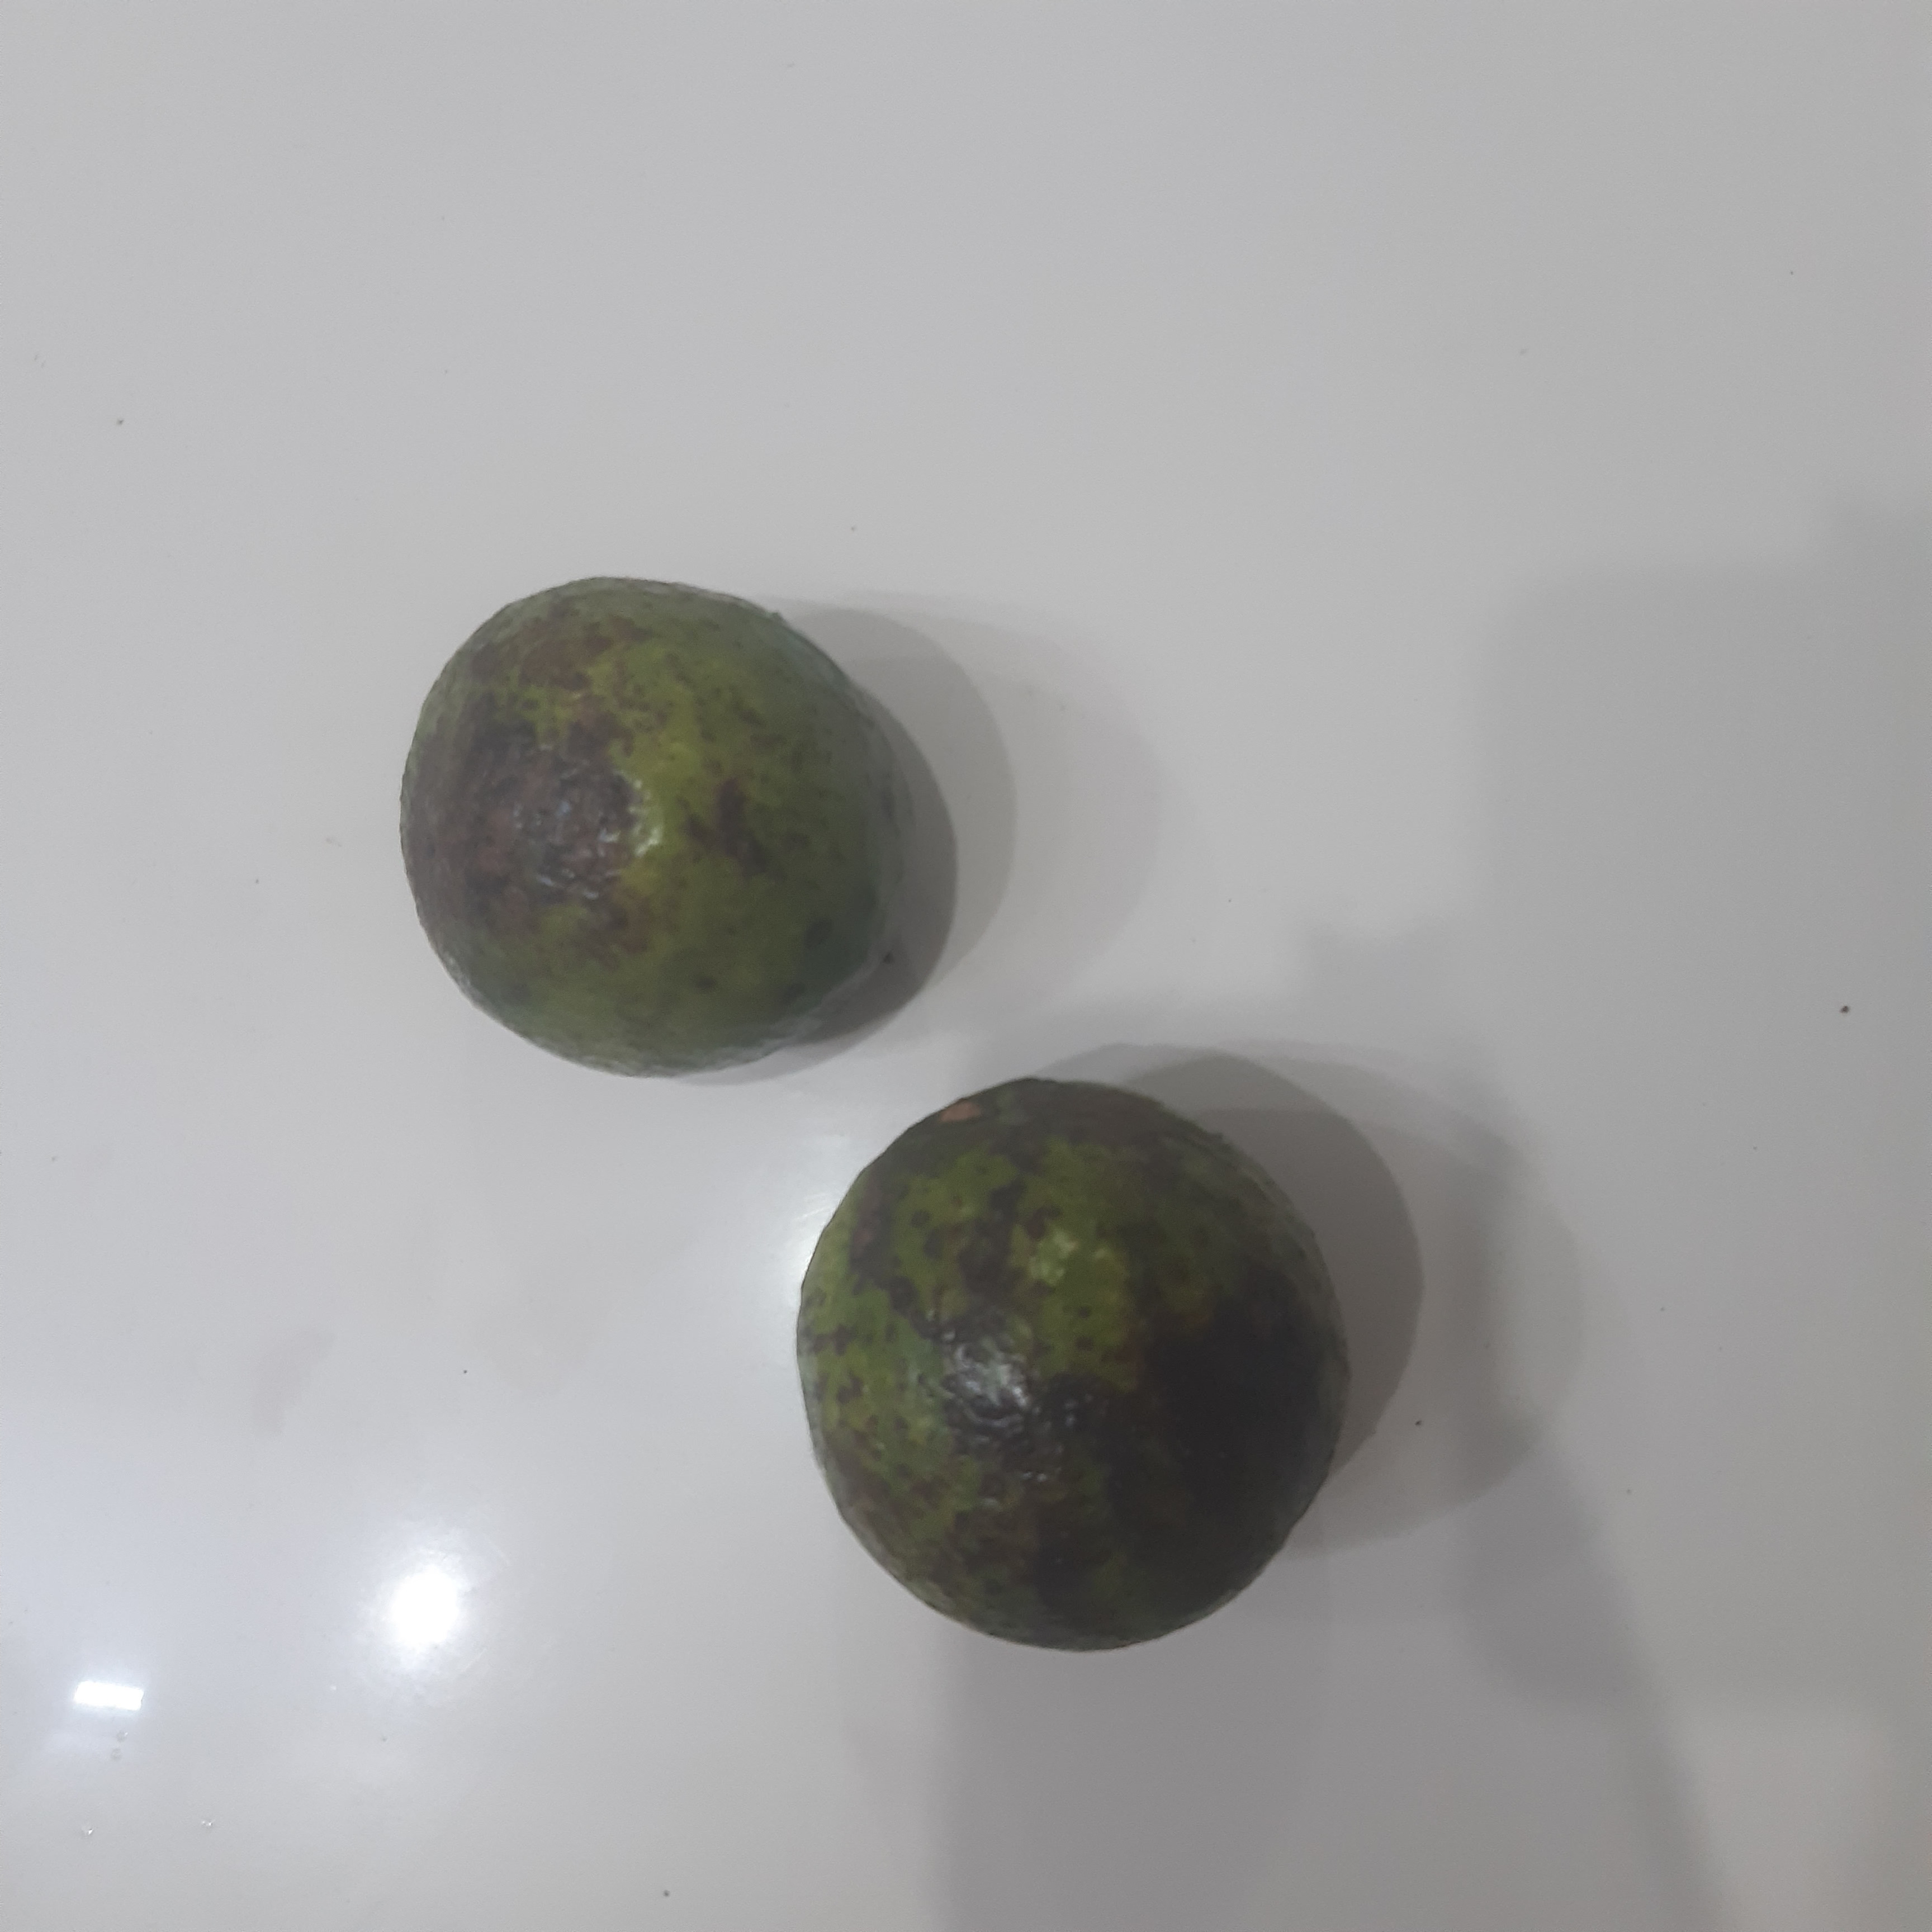Bo: (797, 1077, 1351, 1652), (398, 580, 910, 1082)
